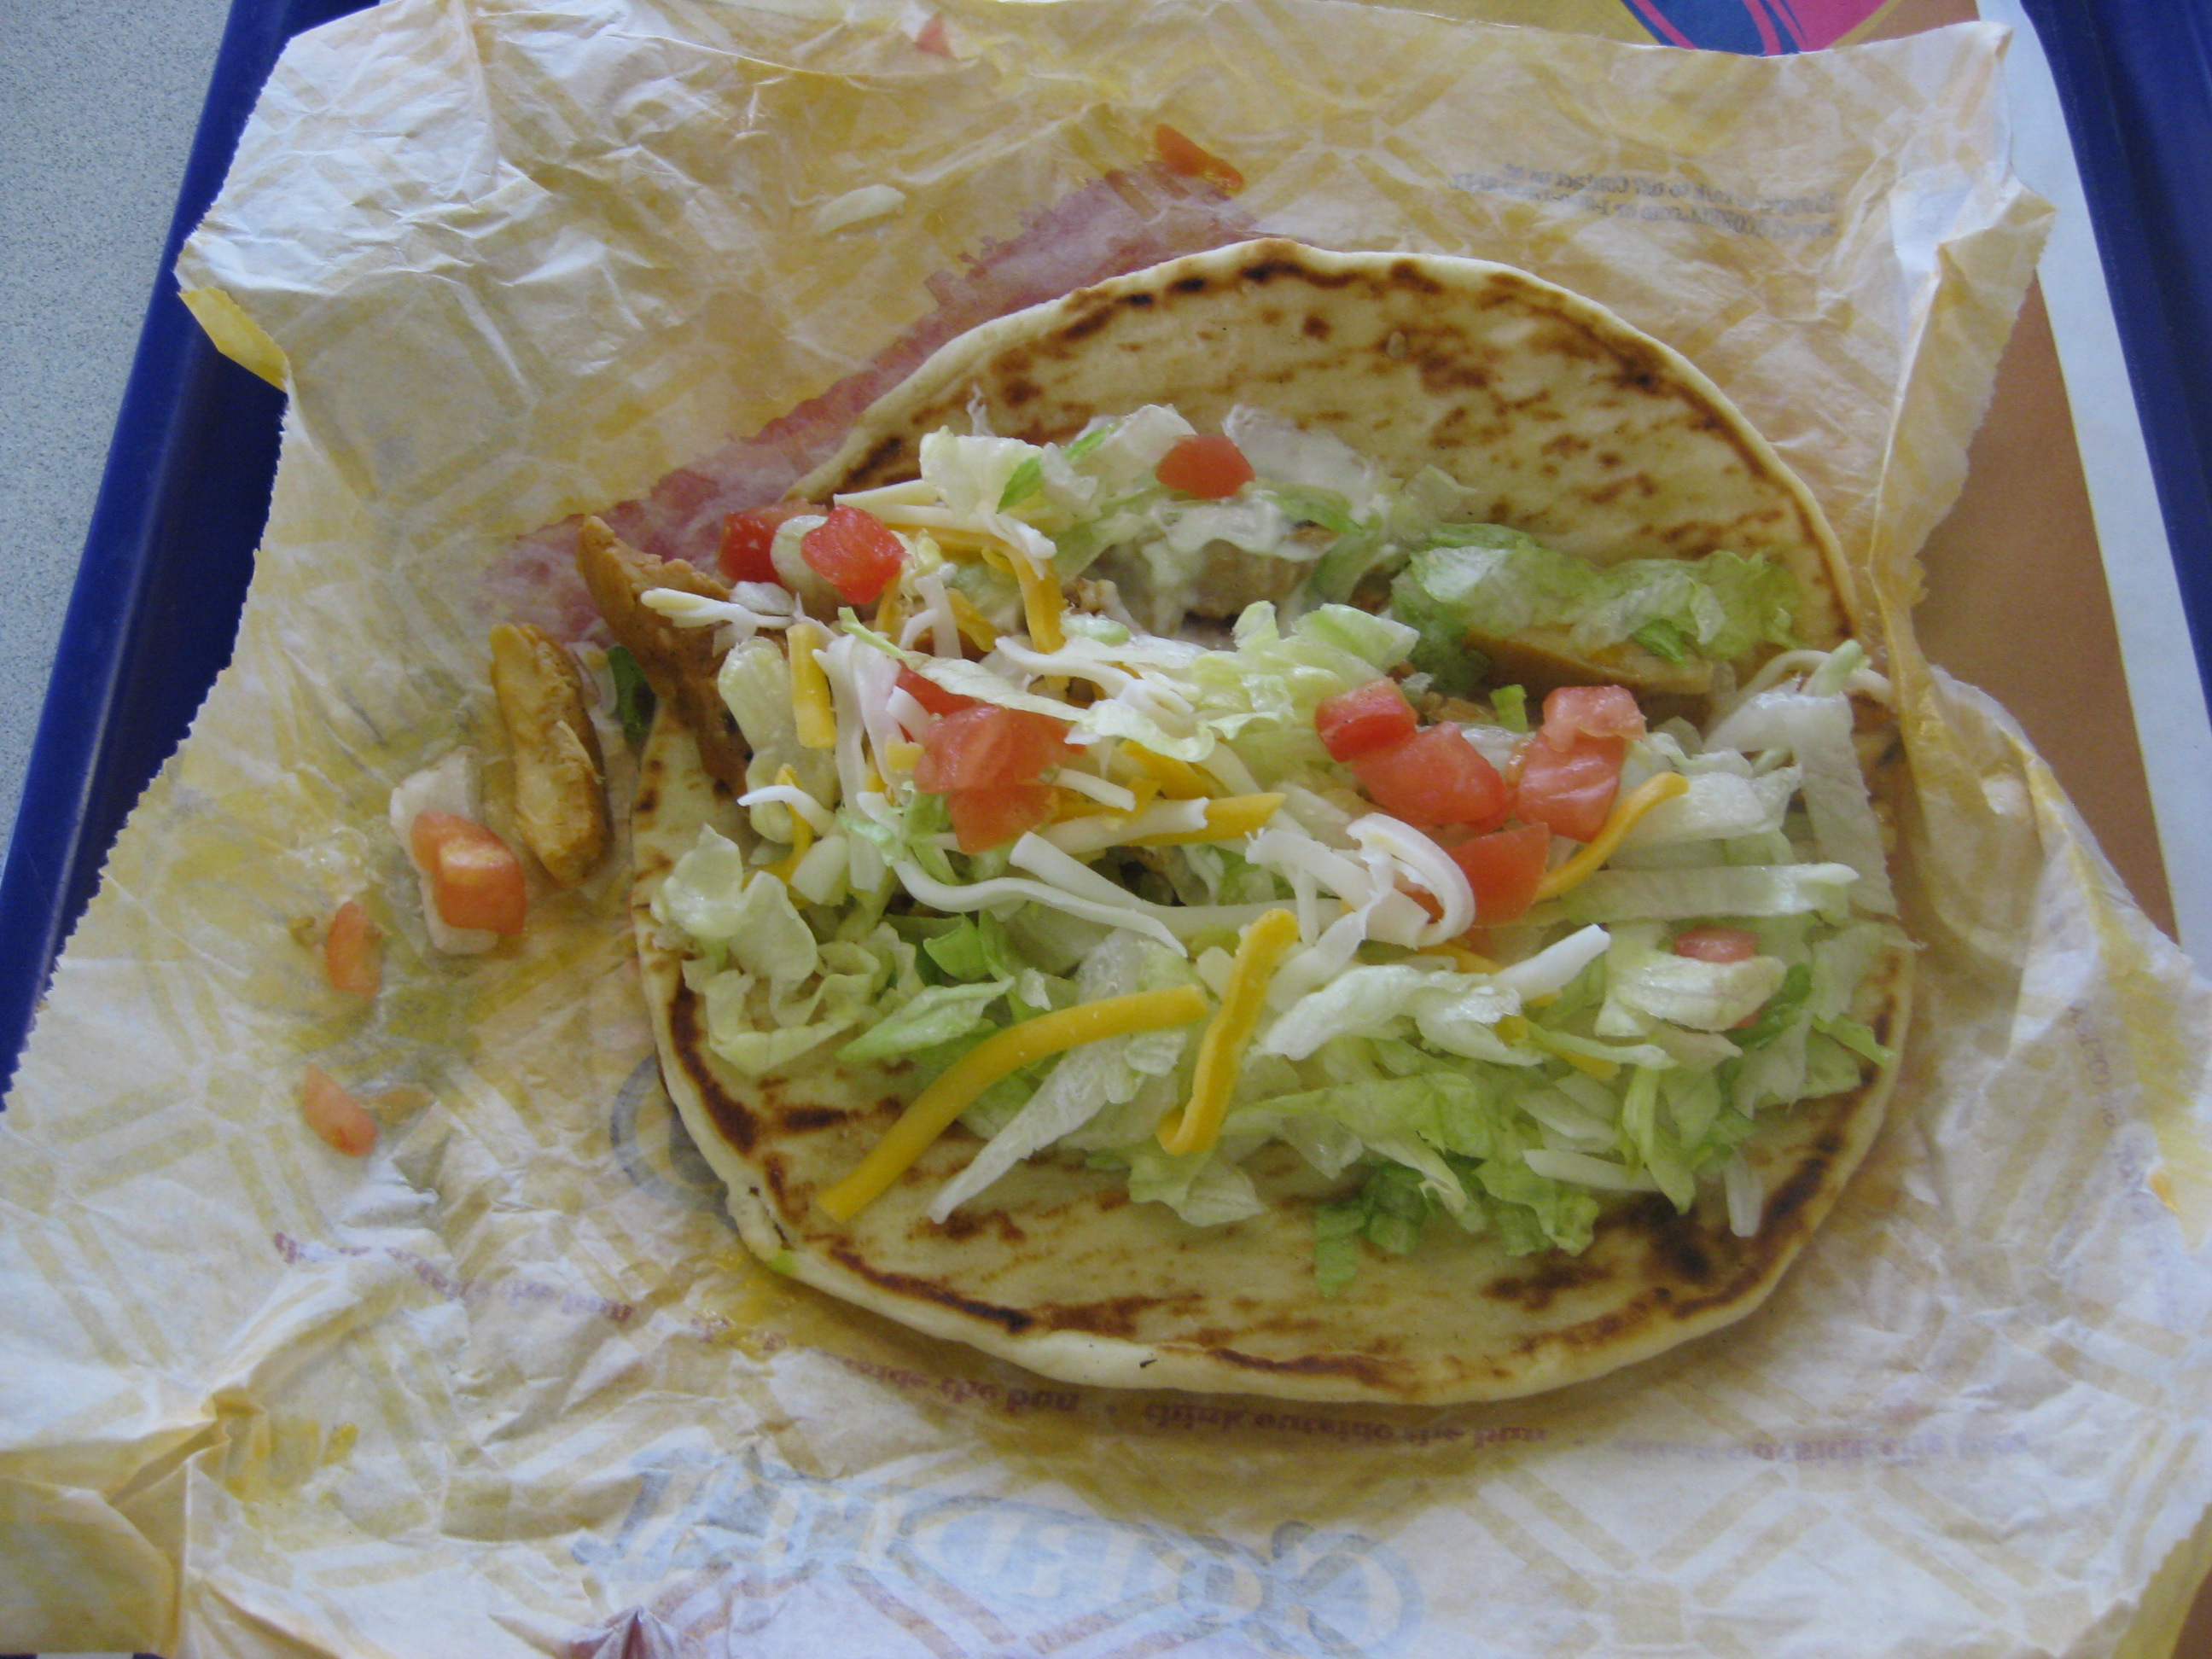taco: (541, 102, 1960, 1474)
